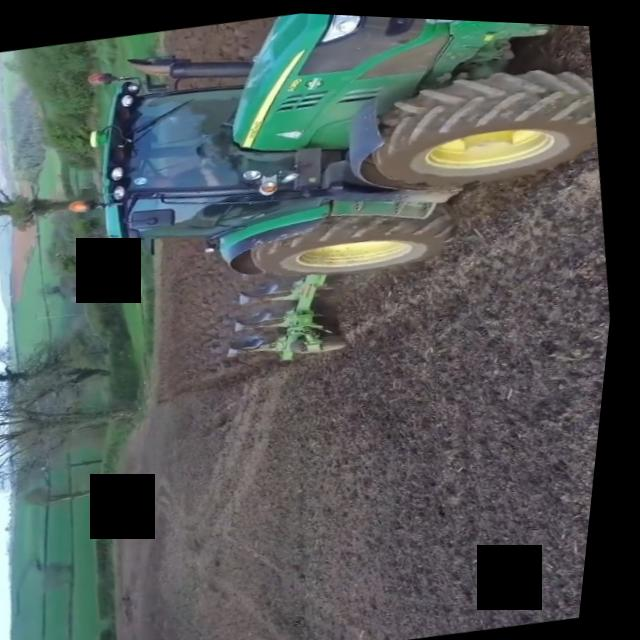Vehicle: (28, 2, 640, 413)
